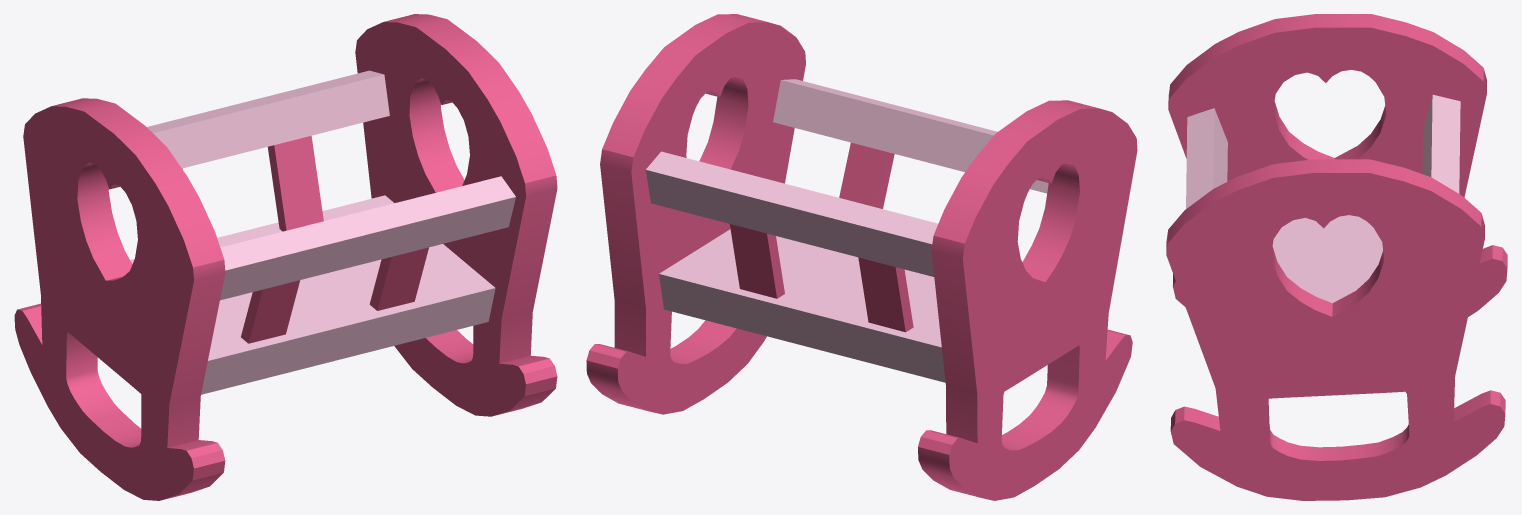
Rendered from Cradle.gltf.
3 views of the same model, side by side, from view 1: azimuth 30°, elevation 25°; view 2: azimuth 150°, elevation 25°; view 3: azimuth 270°, elevation 25° (orthographic). The views are drawn at different scales.
Visible parts, largest first — view 1: Cradle; view 2: Cradle; view 3: Cradle.
Boxes of the visible parts, left/top/right/bottom form: Cradle: left=14, top=14, right=557, bottom=500; Cradle: left=586, top=14, right=1137, bottom=500; Cradle: left=1166, top=14, right=1507, bottom=500.
Bounding box in the file's own units: 0.9759 × 0.9091 × 0.8506.
1 material, 1 textured.
